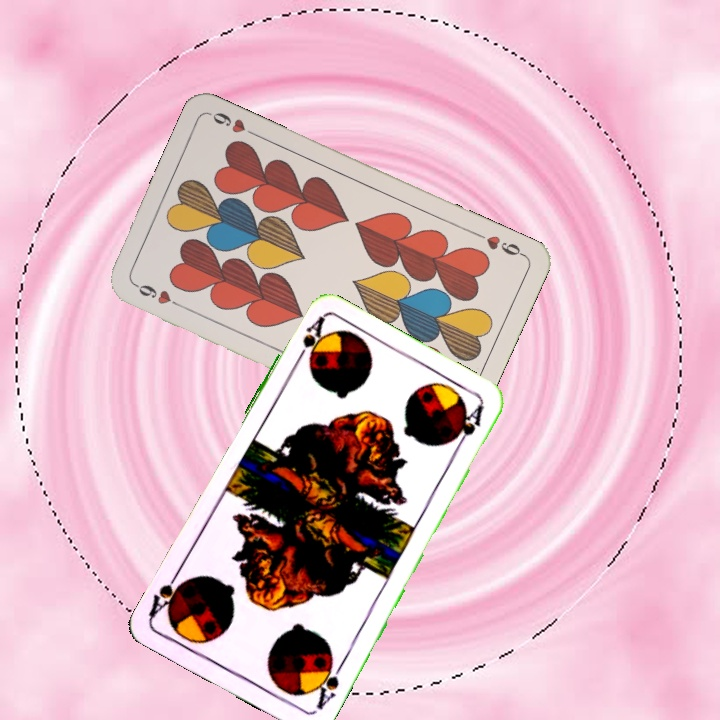H9: (130, 279, 186, 311), (472, 228, 527, 259)
SA: (308, 654, 347, 713), (290, 314, 329, 368)
